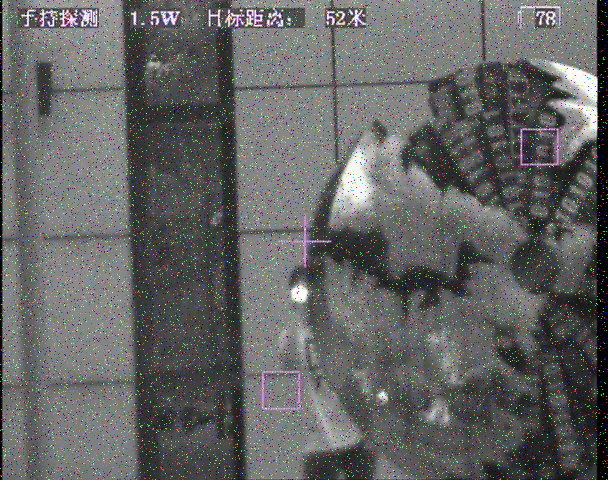my: (290, 283, 309, 302)
